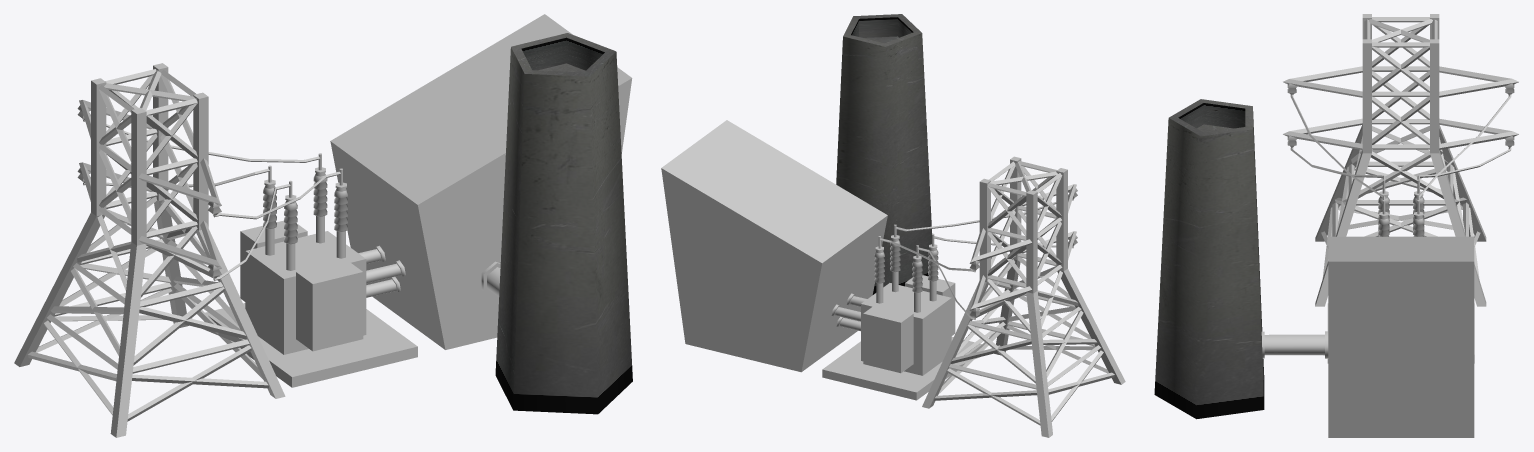
File: Power Plant.FBX
3 renders of one model, left to right at view 1: azimuth 30°, elevation 25°; view 2: azimuth 150°, elevation 25°; view 3: azimuth 270°, elevation 25°, orthographic. The views are drawn at different scales.
Visible parts, largest first — view 1: Cylinder020, Box004, Box011, Box015, Cylinder023, Box019; view 2: Box011, Box004, Cylinder020, Box015, Box019, Cylinder023; view 3: Cylinder020, Box011, Box004, Cylinder023, Box019, Box015.
Part boxes in pixels (left/top/right/bottom): Cylinder020: left=495, top=33, right=632, bottom=414; Box004: left=14, top=63, right=285, bottom=437; Box011: left=330, top=14, right=632, bottom=349; Box015: left=205, top=153, right=417, bottom=387; Cylinder023: left=358, top=245, right=500, bottom=297; Box019: left=83, top=120, right=326, bottom=280; Box011: left=661, top=120, right=887, bottom=372; Box004: left=922, top=156, right=1125, bottom=437; Cylinder020: left=836, top=14, right=932, bottom=294; Box015: left=822, top=224, right=982, bottom=400; Box019: left=891, top=199, right=1073, bottom=319; Cylinder023: left=831, top=293, right=866, bottom=331; Cylinder020: left=1154, top=99, right=1264, bottom=419; Box011: left=1328, top=236, right=1474, bottom=437; Box004: left=1283, top=14, right=1518, bottom=306; Cylinder023: left=1261, top=331, right=1328, bottom=358; Box019: left=1290, top=94, right=1511, bottom=197; Box015: left=1327, top=175, right=1474, bottom=363.
Bounding box in the file's own units: 112 × 67.71 × 80.84.
